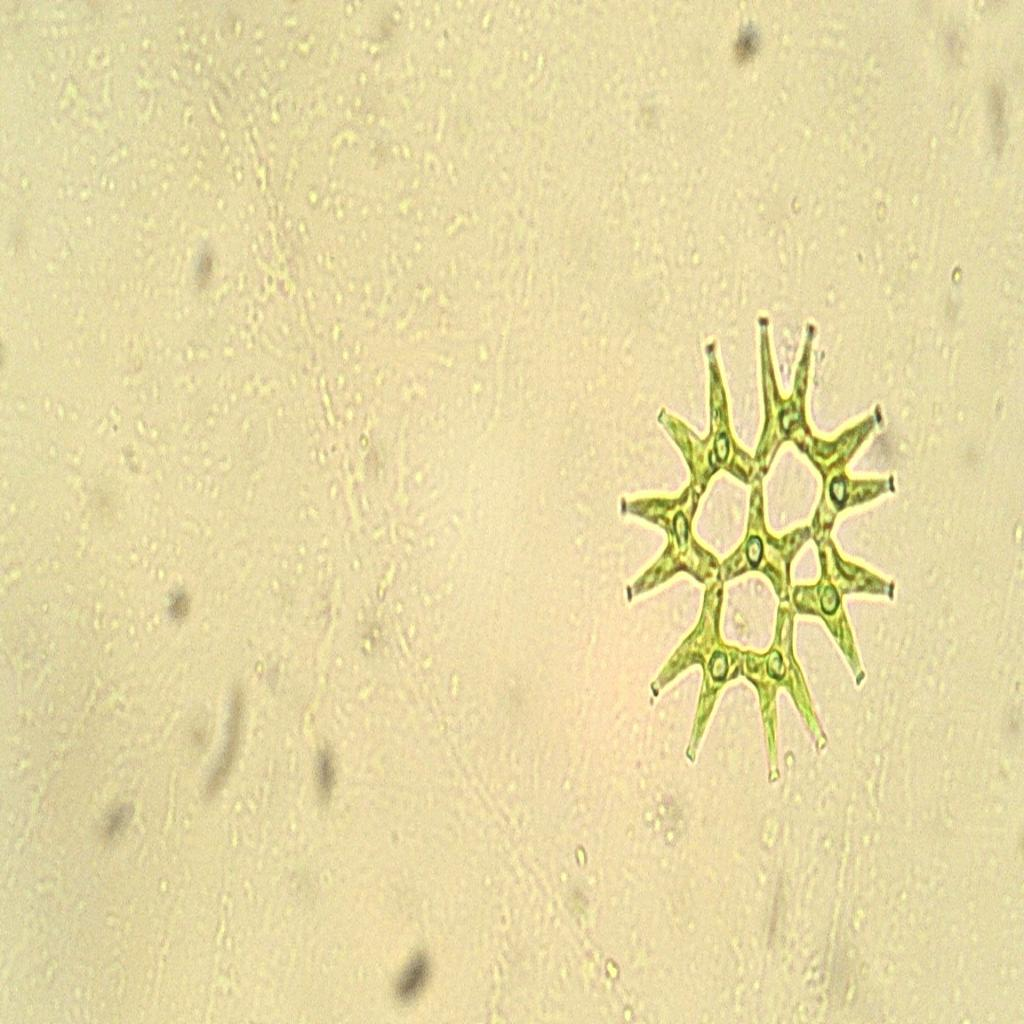Pediastrum_CTH: (601, 298, 926, 800)
